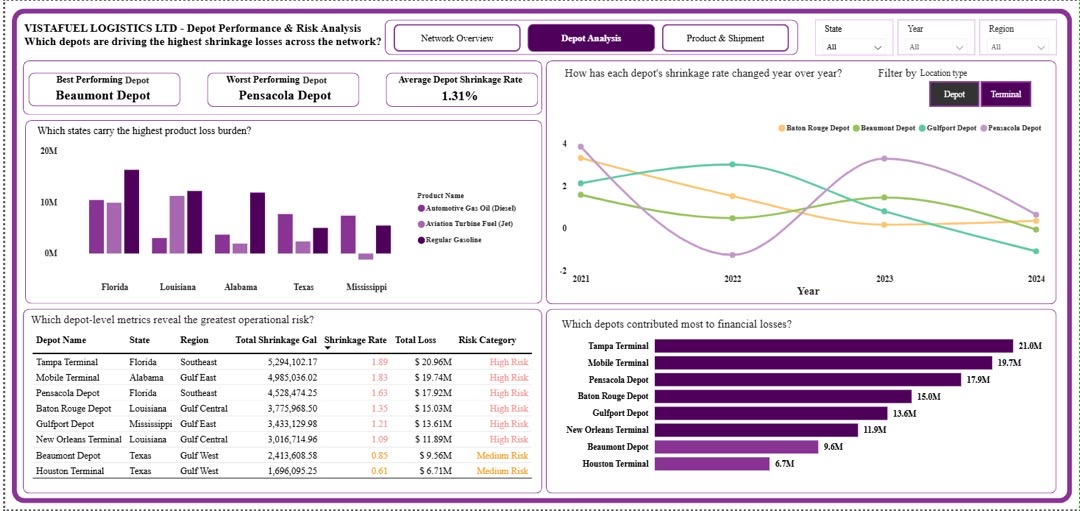

The dashboard page shown, as its layout file describes it:
{"tool":"powerbi","page":{"name":"Depot Analysis","canvas":[1520,720],"ordinal":1},"visuals":[{"type":"shape","box":[32.4,217.6,182.4,47.1],"z":0},{"type":"shape","box":[0,0,1520.6,720.6],"z":1000},{"type":"shape","box":[8.8,10.3,1501.5,700],"z":2000},{"type":"textbox","box":[22.1,23.5,519.1,47.1],"z":3000},{"type":"shape","box":[24.6,84.6,735.4,76.9],"z":4000},{"type":"shape","box":[766.2,84.6,723.1,345],"z":5000},{"type":"shape","box":[27.7,169.2,732.3,260],"z":6000},{"type":"shape","box":[766.2,435.4,723.1,261.5],"z":7000},{"type":"shape","box":[24.6,435.4,735.4,261.5],"z":8000},{"type":"cardVisual","fields":{"Data":["_Measures.Best Depot"]},"box":[42.2,103.1,214.1,59.4],"z":9000},{"type":"cardVisual","fields":{"Data":["_Measures.Shrinkage Rate %"]},"box":[589.2,106.2,116.9,55.4],"z":10000},{"type":"cardVisual","fields":{"Data":["_Measures.Worst Depot"]},"box":[301.5,104.6,192.3,56.9],"z":11000},{"type":"textbox","box":[67.2,95.3,157.8,35.9],"z":12000},{"type":"textbox","box":[552.3,95.4,200,30.8],"z":13000},{"type":"textbox","box":[307.8,95.3,175,31.2],"z":14000},{"type":"lineChart","fields":{"Category":["Date Table.Year"],"Y":["_Measures.Shrinkage Rate Numeric"],"Series":["dim_depot.depot_name"]},"box":[780,161.5,696.9,263.1],"z":15000},{"type":"clusteredColumnChart","fields":{"Category":["dim_depot.state"],"Y":["_Measures.Total Loss USD"],"Series":["dim_product.product_name"]},"box":[43.1,198.5,693.8,223.1],"z":16000},{"type":"clusteredBarChart","fields":{"Category":["dim_depot.depot_name"],"Y":["_Measures.Total Loss USD"]},"box":[787.7,456.9,689.2,223.1],"z":17000},{"type":"tableEx","fields":{"Values":["dim_depot.depot_name","dim_depot.state","dim_depot.region","_Measures.Total Shrinkage Gal","_Measures.Shrinkage Rate Numeric","_Measures.Total Loss Formatted","_Measures.Risk Category"]},"box":[32.8,464.1,718.8,231.2],"z":18000},{"type":"textbox","box":[787.7,87.7,609.2,47.7],"z":19000},{"type":"textbox","box":[41.2,169.1,530.9,47.1],"z":20000},{"type":"textbox","box":[783.1,441.5,366.2,32.3],"z":21000},{"type":"textbox","box":[30.9,435.3,532.4,29.4],"z":22000},{"type":"shape","box":[32.3,101.5,215,47.7],"z":23000},{"type":"shape","box":[285.9,101.6,215.6,48.4],"z":24000},{"type":"shape","box":[539.1,101.6,215.6,48.4],"z":25000},{"type":"shape","box":[536.8,26.5,585.3,50],"z":26000},{"type":"pageNavigator","box":[550,32.4,560.3,39.7],"z":27000},{"type":"slicer","fields":{"Values":["dim_depot.Location_type"]},"box":[1283.1,90.8,193.8,66.2],"z":28000},{"type":"cardVisual","fields":{"Data":["Min(dim_depot.Location_type)"]},"box":[140.6,85.9,114.1,50],"z":29000},{"type":"cardVisual","fields":{"Data":["Min(dim_depot.Location_type)"]},"box":[392.2,85.9,114.1,50],"z":30000},{"type":"slicer","fields":{"Values":["dim_depot.state"]},"box":[1146.2,26.2,110.8,50.8],"z":31000},{"type":"textbox","box":[1231.2,87.5,84.4,35.9],"z":32000},{"type":"slicer","fields":{"Values":["dim_depot.region"]},"box":[1379.7,26.6,109.4,50],"z":33000},{"type":"slicer","fields":{"Values":["Date Table.Year"]},"box":[1264.1,26.6,109.4,50],"z":34000}]}

Visuals, with their boxes in screenshot pixels (x1, y1, x2, y2), scaled from the page's 1520x720 canvas onto the 1080x511 screenshot:
shape: bbox=[23, 154, 153, 188]
shape: bbox=[0, 0, 1079, 510]
shape: bbox=[6, 7, 1073, 504]
textbox: bbox=[16, 17, 385, 50]
shape: bbox=[17, 60, 540, 115]
shape: bbox=[544, 60, 1058, 305]
shape: bbox=[20, 120, 540, 305]
shape: bbox=[544, 309, 1058, 495]
shape: bbox=[17, 309, 540, 495]
cardVisual - _Measures.Best Depot: bbox=[30, 73, 182, 115]
cardVisual - _Measures.Shrinkage Rate %: bbox=[419, 75, 502, 115]
cardVisual - _Measures.Worst Depot: bbox=[214, 74, 351, 115]
textbox: bbox=[48, 68, 160, 93]
textbox: bbox=[392, 68, 535, 90]
textbox: bbox=[219, 68, 343, 90]
lineChart - Date Table.Year x _Measures.Shrinkage Rate Numeric: bbox=[554, 115, 1049, 301]
clusteredColumnChart - dim_depot.state x _Measures.Total Loss USD: bbox=[31, 141, 524, 299]
clusteredBarChart - dim_depot.depot_name x _Measures.Total Loss USD: bbox=[560, 324, 1049, 483]
tableEx - dim_depot.depot_name x dim_depot.state: bbox=[23, 329, 534, 493]
textbox: bbox=[560, 62, 993, 96]
textbox: bbox=[29, 120, 406, 153]
textbox: bbox=[556, 313, 817, 336]
textbox: bbox=[22, 309, 400, 330]
shape: bbox=[23, 72, 176, 106]
shape: bbox=[203, 72, 356, 106]
shape: bbox=[383, 72, 536, 106]
shape: bbox=[381, 19, 797, 54]
pageNavigator: bbox=[391, 23, 789, 51]
slicer - dim_depot.Location_type: bbox=[912, 64, 1049, 111]
cardVisual - Min(dim_depot.Location_type): bbox=[100, 61, 181, 96]
cardVisual - Min(dim_depot.Location_type): bbox=[279, 61, 360, 96]
slicer - dim_depot.state: bbox=[814, 19, 893, 55]
textbox: bbox=[875, 62, 935, 88]
slicer - dim_depot.region: bbox=[980, 19, 1058, 54]
slicer - Date Table.Year: bbox=[898, 19, 976, 54]
